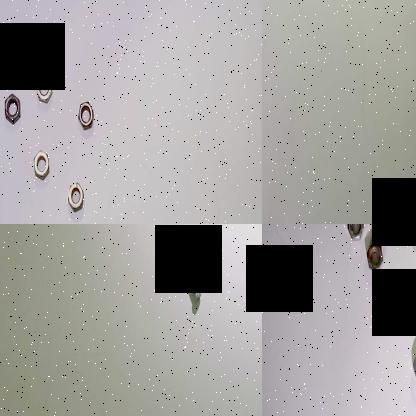Bolts: (179, 255, 205, 312)
NUTS: (2, 87, 24, 129), (365, 242, 385, 277), (66, 180, 86, 214), (33, 147, 51, 183), (368, 224, 391, 250), (36, 73, 53, 107), (77, 100, 94, 132), (345, 224, 365, 246), (411, 344, 416, 389)
